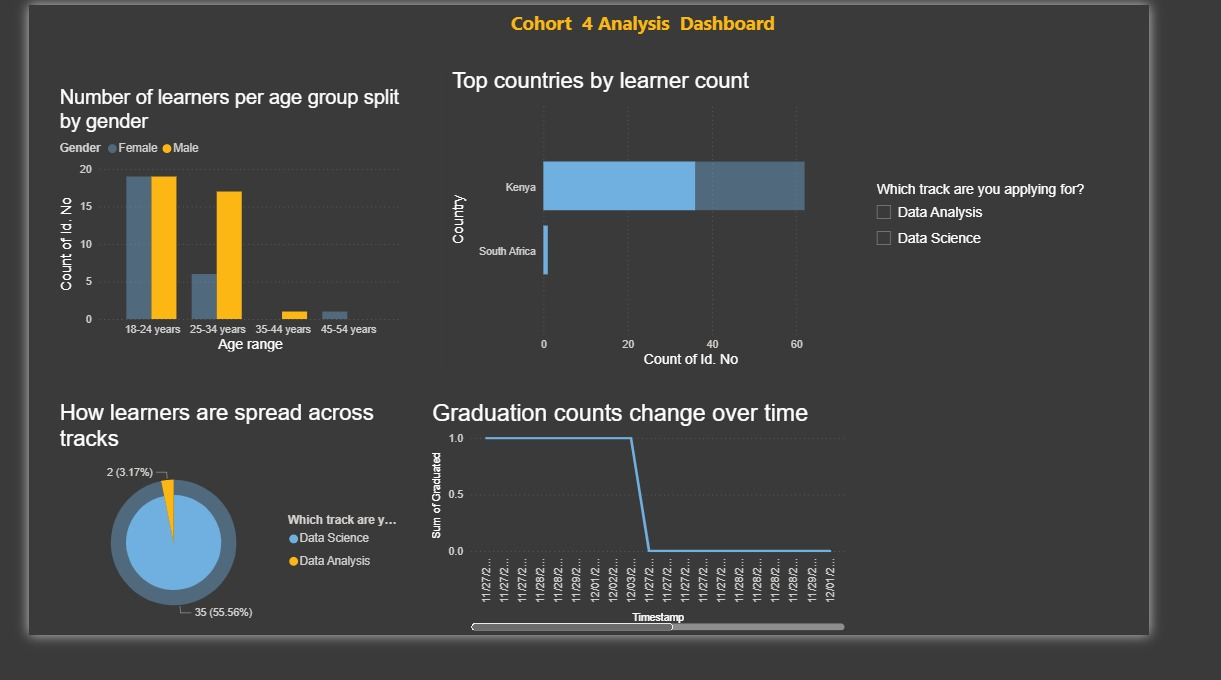

Layout of this report page (visuals, bound fields, positions):
{"tool":"powerbi","page":{"name":"Page 1","canvas":[1280,720],"ordinal":0},"visuals":[{"type":"clusteredColumnChart","title":"Number of learners per age group split by gender","fields":{"Category":["cohort_data_sql_analysed.Age range"],"Y":["CountNonNull(cohort_data_sql_analysed.Id. No)"],"Series":["cohort_data_sql_analysed.Gender"]},"box":[30,92.9,400,308.6],"z":0},{"type":"clusteredBarChart","title":"Top countries by learner count","fields":{"Y":["CountNonNull(cohort_data_sql_analysed.Id. No)"],"Category":["cohort_data_sql_analysed.Country"]},"box":[478.6,71.4,458.6,347.1],"z":1},{"type":"pieChart","title":"How learners are spread across tracks","fields":{"Category":["cohort_data_sql_analysed.Which track are you applying for?"],"Y":["CountNonNull(cohort_data_sql_analysed.Id. No)"]},"box":[30,451.4,400,268.6],"z":2},{"type":"lineChart","title":"Graduation counts change over time","fields":{"Category":["cohort_data_sql_analysed.Timestamp"],"Y":["Sum(cohort_data_sql_analysed.Graduated)"]},"box":[455.7,451.4,481.4,268.6],"z":4},{"type":"slicer","fields":{"Values":["cohort_data_sql_analysed.Which track are you applying for?"]},"box":[955.7,197.1,304.3,324.3],"z":5},{"type":"textbox","box":[545.7,0,334.3,71.4],"z":6}]}

Visuals, with their boxes in screenshot pixels (x1, y1, x2, y2), scaled from the page's 1280x720 canvas onto the 1221x680 screenshot:
"Number of learners per age group split by gender" clusteredColumnChart: (left=29, top=88, right=410, bottom=379)
"Top countries by learner count" clusteredBarChart: (left=457, top=67, right=894, bottom=395)
"How learners are spread across tracks" pieChart: (left=29, top=426, right=410, bottom=679)
"Graduation counts change over time" lineChart: (left=435, top=426, right=894, bottom=679)
slicer - cohort_data_sql_analysed.Which track are you applying for?: (left=912, top=186, right=1202, bottom=492)
textbox: (left=521, top=0, right=839, bottom=67)
